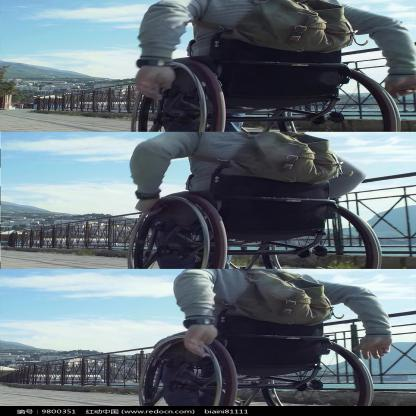wheelchair: (127, 131, 416, 268), (138, 272, 416, 408), (134, 0, 416, 133)
